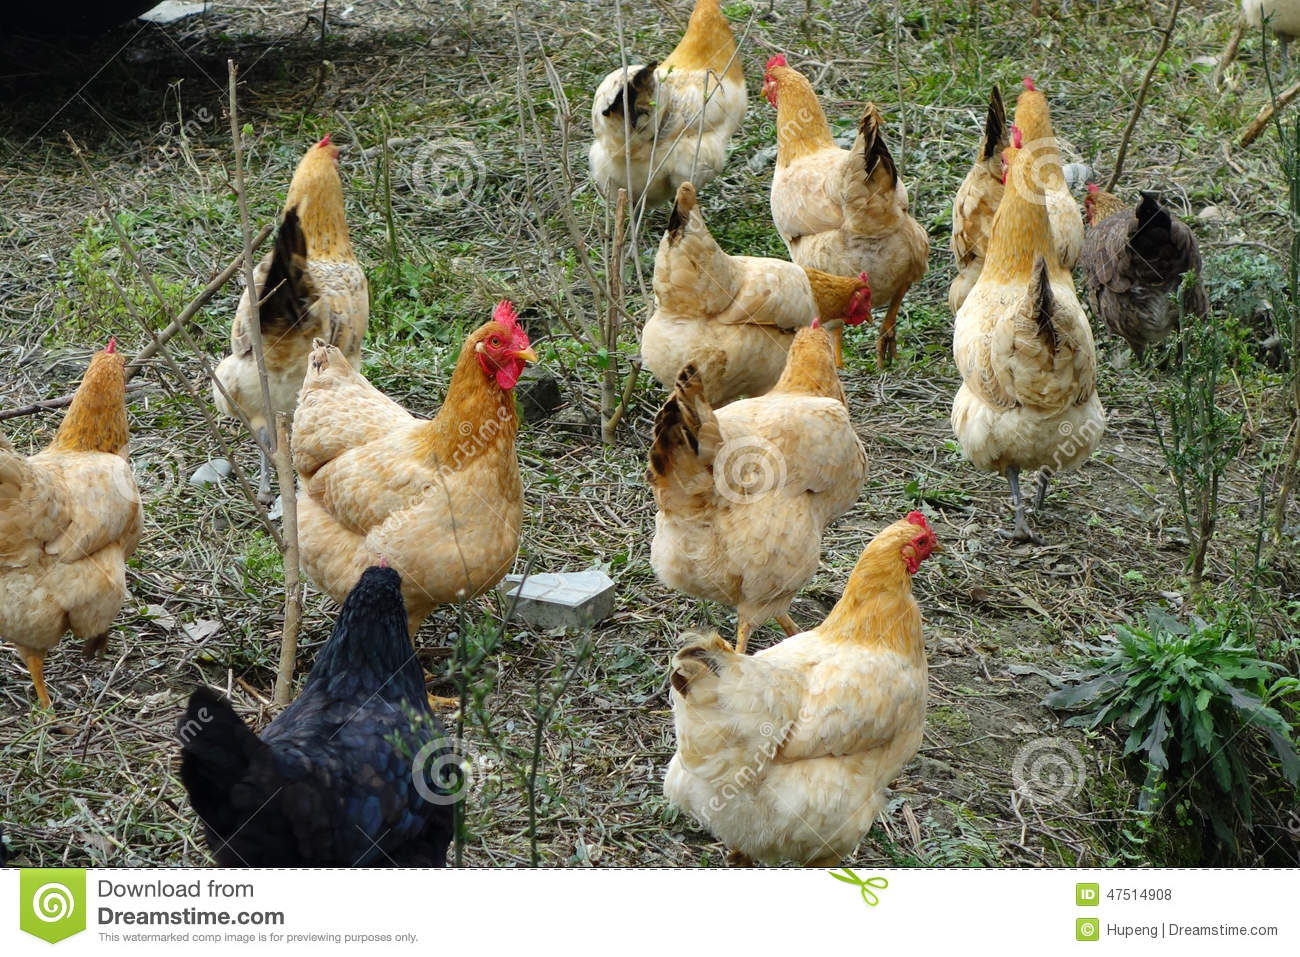chicken: (657, 505, 945, 870), (170, 547, 468, 866), (278, 295, 539, 654), (638, 313, 875, 680), (942, 122, 1111, 529), (208, 121, 372, 508), (1, 323, 152, 721), (755, 49, 939, 377), (583, 1, 763, 238), (642, 179, 881, 351), (948, 74, 1086, 330), (1072, 172, 1218, 376)
